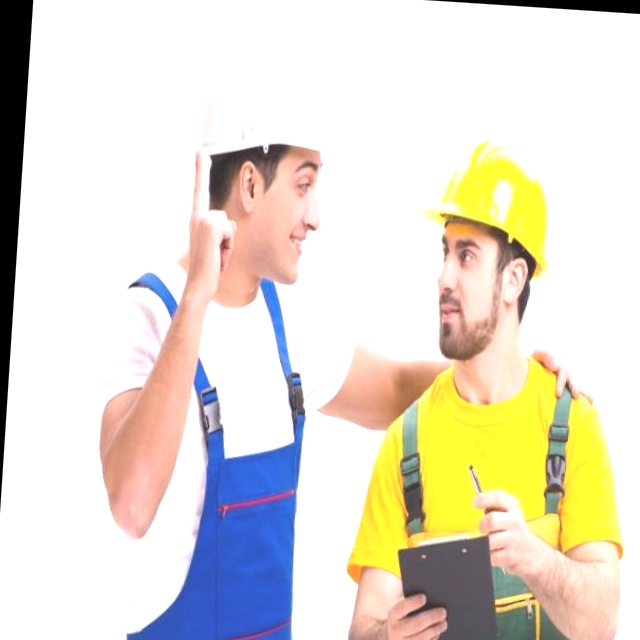Con_Casco: (196, 37, 346, 267), (414, 135, 550, 369)
Sin_Chaleco: (94, 268, 327, 615), (379, 359, 590, 640)
